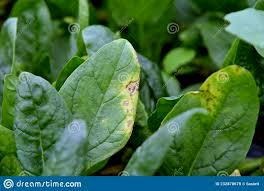Bok-Choy-Diseased: (193, 67, 254, 139), (87, 65, 144, 131)
